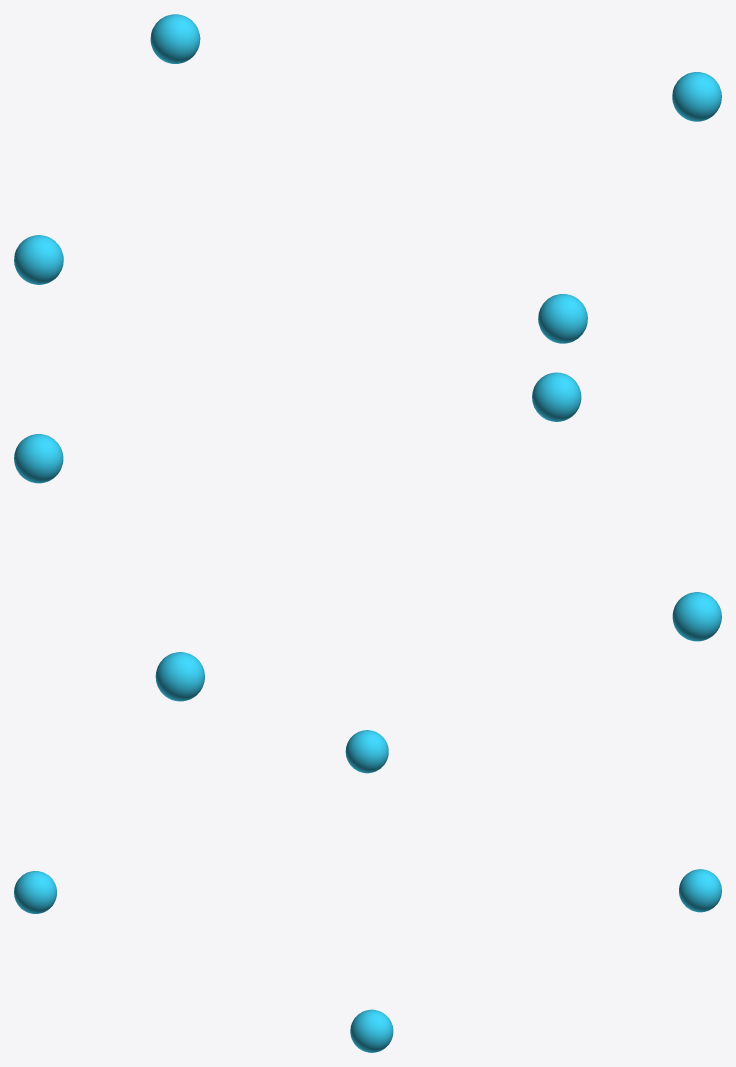
3 views of the same model, one above another, from view 1: azimuth 30°, elevation 25°; view 2: azimuth 150°, elevation 25°; view 3: azimuth 270°, elevation 25° (orthographic). The views are drawn at different scales.
Visible parts, largest first — view 1: Sphere048; view 2: Sphere048; view 3: Sphere048.
Boxes of the visible parts, bbox=[...] form: Sphere048: bbox=[14, 14, 721, 343]; Sphere048: bbox=[14, 372, 721, 701]; Sphere048: bbox=[14, 730, 721, 1052].
Bounding box in the file's own units: 134 × 8.22 × 134.
